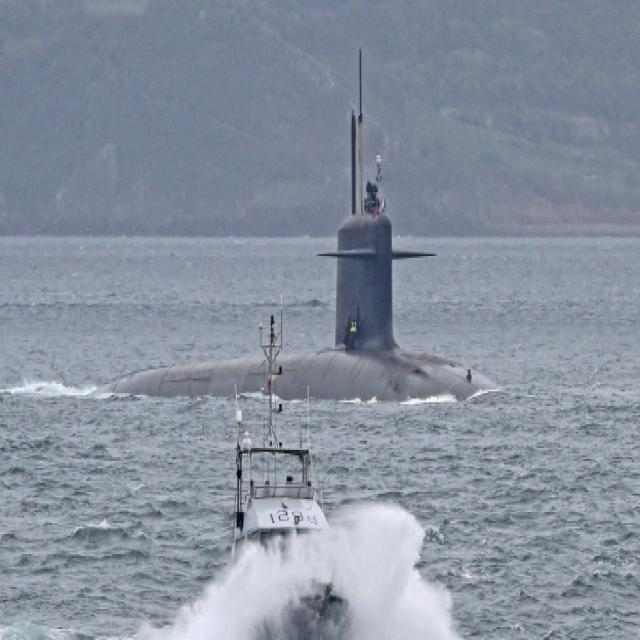submarine: (116, 25, 494, 396)
